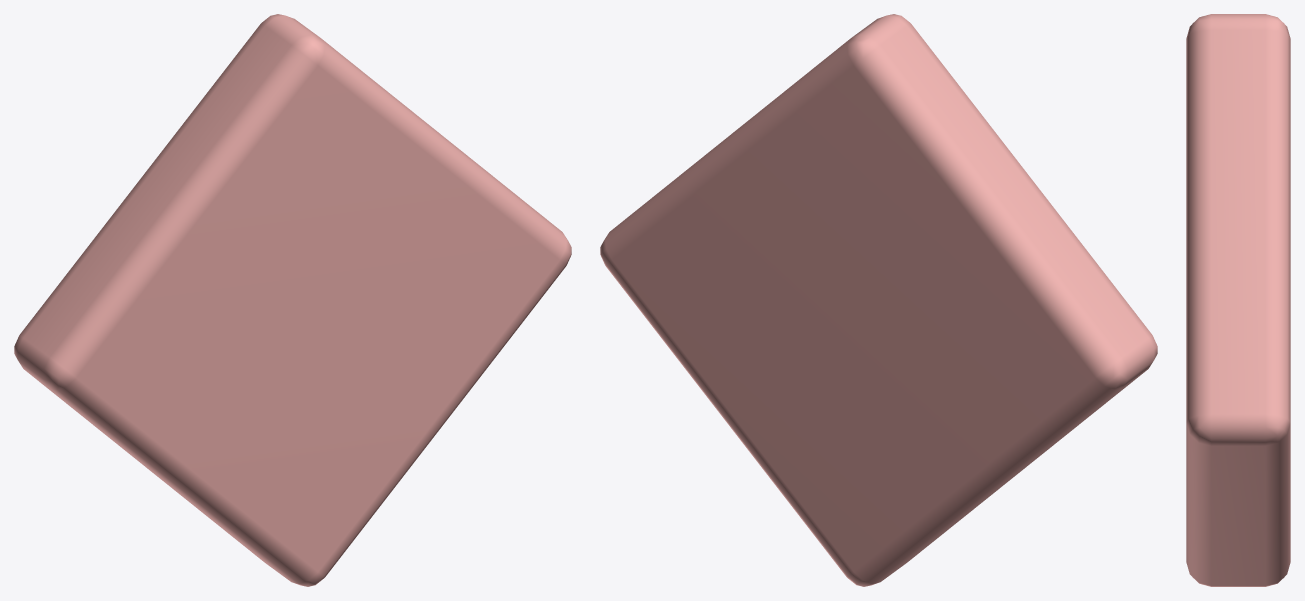
File: shape-rhombus-pink.glb
The picture shows the model from 3 angles, left to right: view 1: azimuth 30°, elevation 25°; view 2: azimuth 150°, elevation 25°; view 3: azimuth 270°, elevation 25°; orthographic projection. The views are drawn at different scales.
Visible parts, largest first — view 1: solid rhombus; view 2: solid rhombus; view 3: solid rhombus.
Part boxes in pixels (x1=…): solid rhombus: x1=14, y1=14, x2=571, y2=586; solid rhombus: x1=600, y1=14, x2=1157, y2=586; solid rhombus: x1=1186, y1=14, x2=1290, y2=586.
Size of the model in its own units: 1.5 by 1.5 by 0.25.
